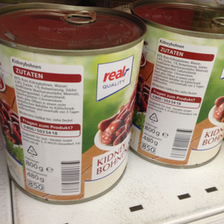beans: (1, 4, 140, 202), (134, 1, 224, 179)
